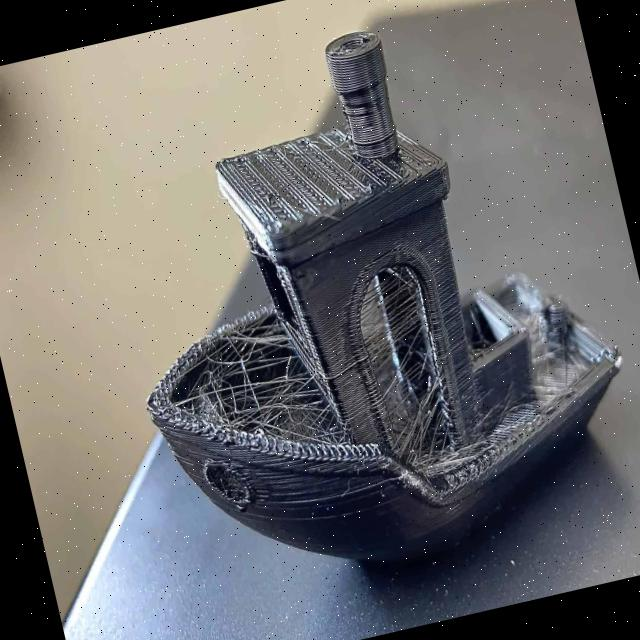stringing: (362, 275, 451, 460), (193, 331, 338, 426), (521, 305, 566, 366)
